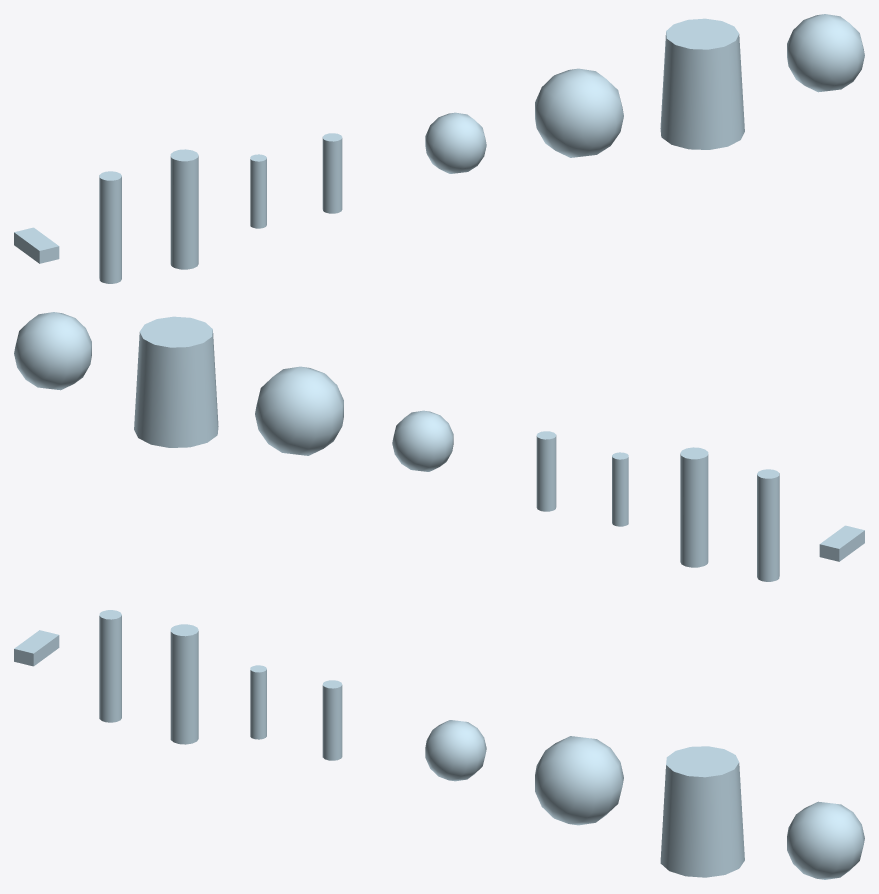
Rendered from crowd_kit.glb.
The picture shows the model from 3 angles, top to bottom: view 1: azimuth 30°, elevation 25°; view 2: azimuth 150°, elevation 25°; view 3: azimuth 330°, elevation 25°; orthographic projection.
Visible parts, largest first — view 1: Person torso, Person chest, Person hip, Person thigh, Person head, Person shin, Person upper arm, Person forearm, Person foot; view 2: Person torso, Person chest, Person hip, Person thigh, Person head, Person shin, Person upper arm, Person forearm, Person foot; view 3: Person torso, Person chest, Person hip, Person thigh, Person head, Person shin, Person upper arm, Person forearm, Person foot.
Boxes of the visible parts, x1,y1,x2,y2 form: Person torso: [660, 18, 744, 149]; Person chest: [535, 68, 623, 157]; Person hip: [787, 14, 864, 92]; Person thigh: [170, 149, 198, 269]; Person head: [425, 112, 486, 173]; Person shin: [99, 171, 121, 283]; Person upper arm: [322, 133, 342, 213]; Person forearm: [250, 154, 266, 228]; Person foot: [14, 227, 59, 263]; Person torso: [134, 316, 218, 447]; Person chest: [255, 366, 343, 455]; Person hip: [14, 312, 91, 390]; Person thigh: [680, 447, 708, 567]; Person head: [392, 410, 453, 471]; Person shin: [757, 469, 779, 581]; Person upper arm: [536, 431, 556, 511]; Person forearm: [612, 452, 628, 526]; Person foot: [819, 525, 864, 561]; Person torso: [660, 746, 744, 877]; Person chest: [535, 736, 623, 825]; Person hip: [787, 801, 864, 879]; Person thigh: [170, 624, 198, 744]; Person head: [425, 720, 486, 781]; Person shin: [99, 610, 121, 722]; Person upper arm: [322, 680, 342, 760]; Person forearm: [250, 665, 266, 739]; Person foot: [14, 630, 59, 666].
Bounding box in the file's own units: 3.38 × 0.42 × 0.32.
